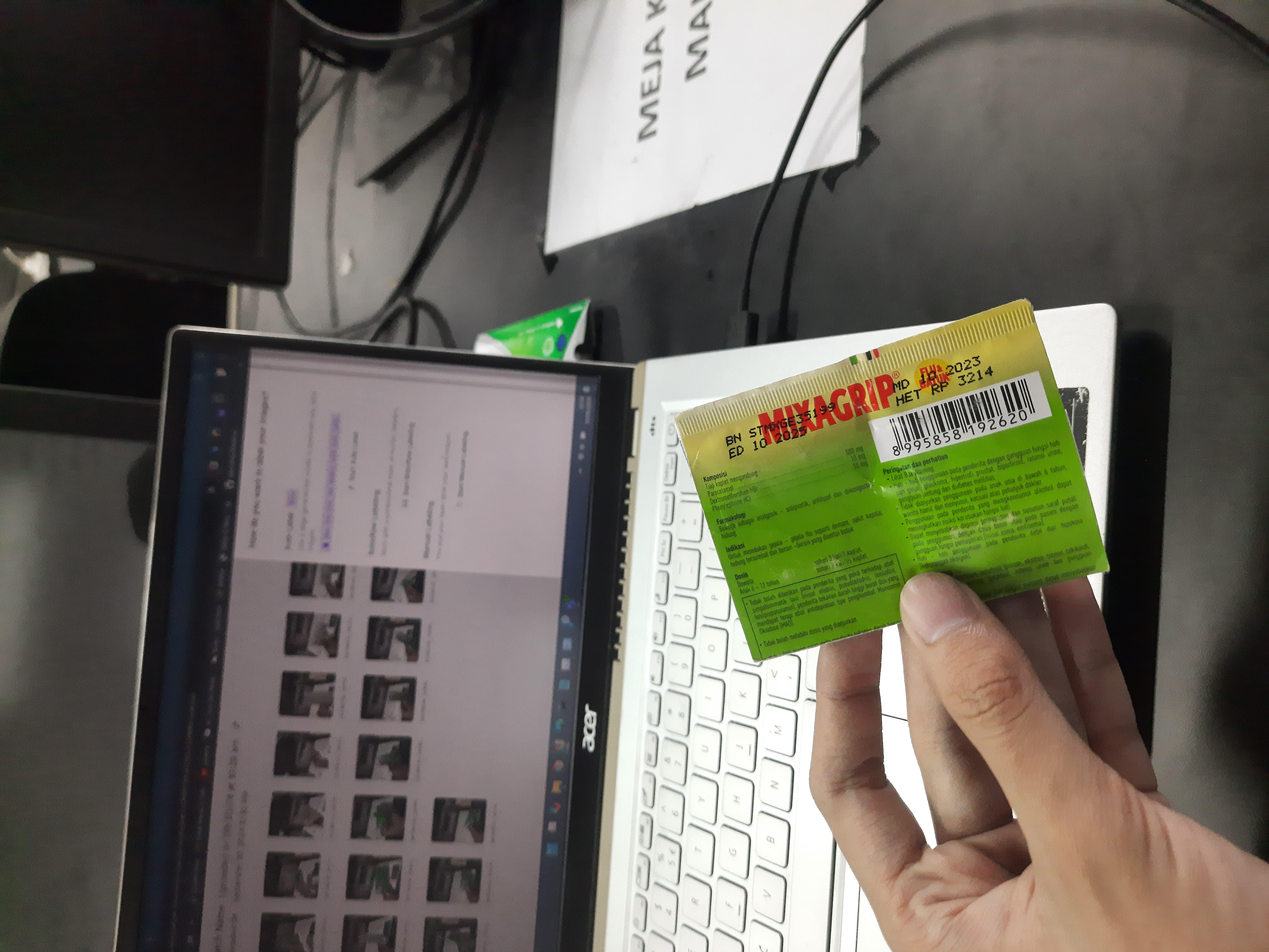Mixagrip Flu dan Batuk: (388, 506, 873, 831)
